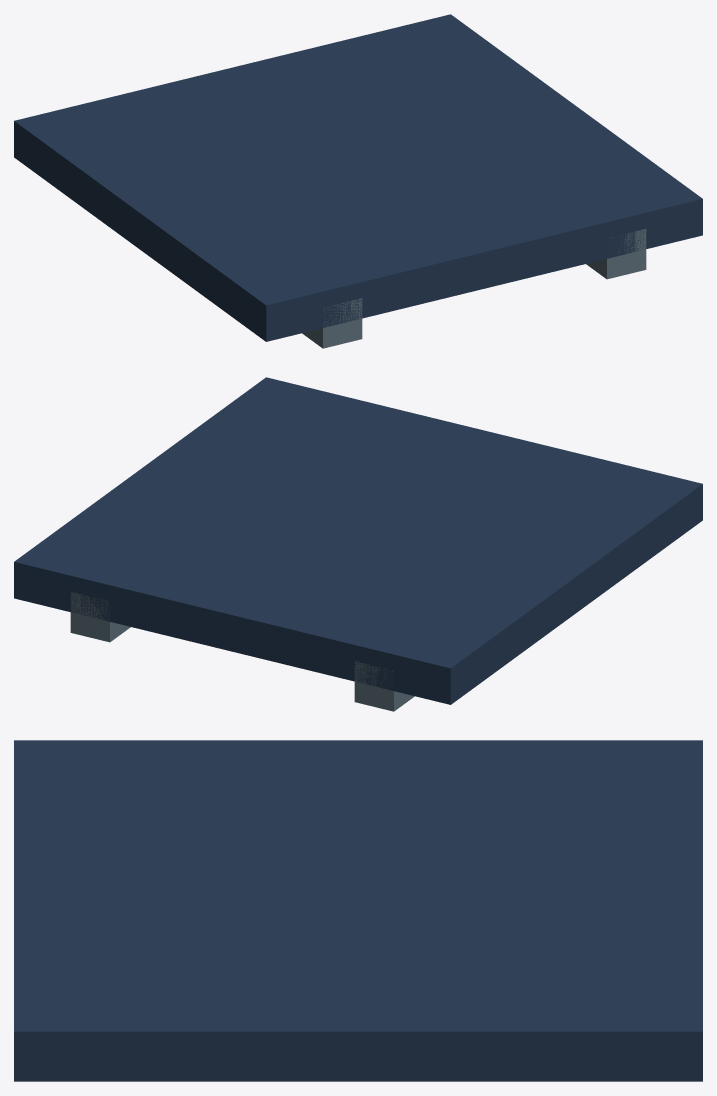
Rendered from architecture-scifi-ceiling.lod0.glb.
3 views of the same model, one above another, from view 1: azimuth 30°, elevation 25°; view 2: azimuth 150°, elevation 25°; view 3: azimuth 270°, elevation 25° (orthographic). The views are drawn at different scales.
Visible parts, largest first — view 1: architecture-scifi-ceiling__body; view 2: architecture-scifi-ceiling__body; view 3: architecture-scifi-ceiling__body.
Part boxes in pixels (bbox=[...]): architecture-scifi-ceiling__body: bbox=[14, 14, 702, 348]; architecture-scifi-ceiling__body: bbox=[14, 377, 702, 711]; architecture-scifi-ceiling__body: bbox=[14, 740, 702, 1081].
Bounding box in the file's own units: 2 × 0.25 × 2.
